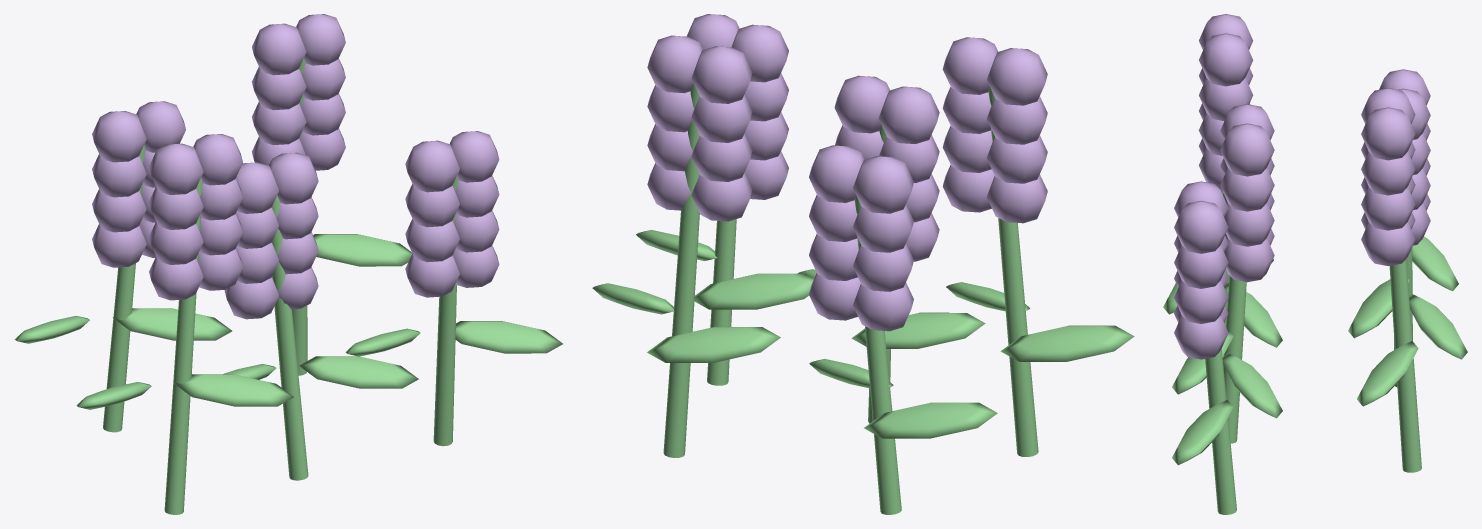
File: flower_3_spring.glb
The picture shows the model from 3 angles, left to right: view 1: azimuth 30°, elevation 25°; view 2: azimuth 150°, elevation 25°; view 3: azimuth 270°, elevation 25°; orthographic projection. The views are drawn at different scales.
Bounding box in the file's own units: 0.6121 × 0.4779 × 0.3462.
